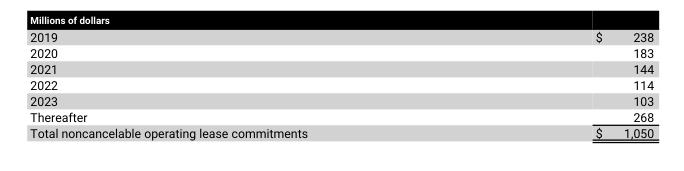table: (29, 29, 653, 139)
table column: (29, 29, 450, 139), (450, 29, 653, 139)
table row: (29, 44, 653, 60), (29, 60, 653, 76), (29, 76, 653, 92), (29, 92, 653, 108), (29, 108, 653, 124), (29, 29, 653, 44), (29, 124, 653, 139)
